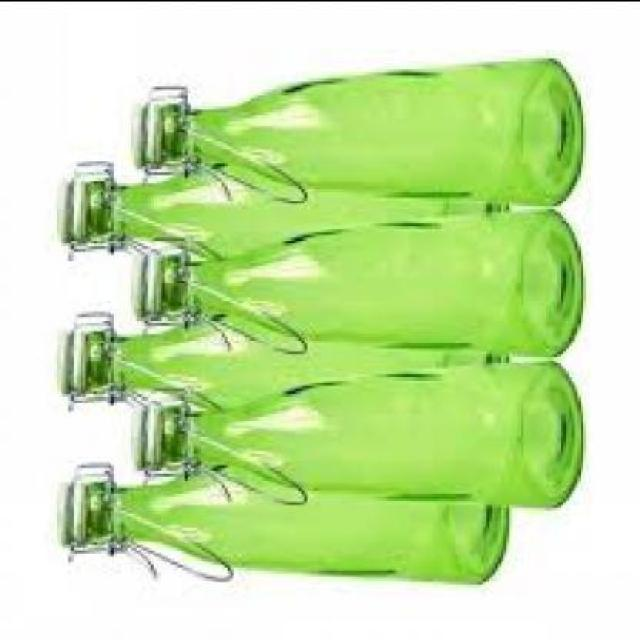GLASS: (137, 60, 580, 208), (137, 211, 577, 358), (153, 365, 578, 509), (82, 466, 504, 583), (77, 167, 509, 256), (80, 324, 509, 413)
